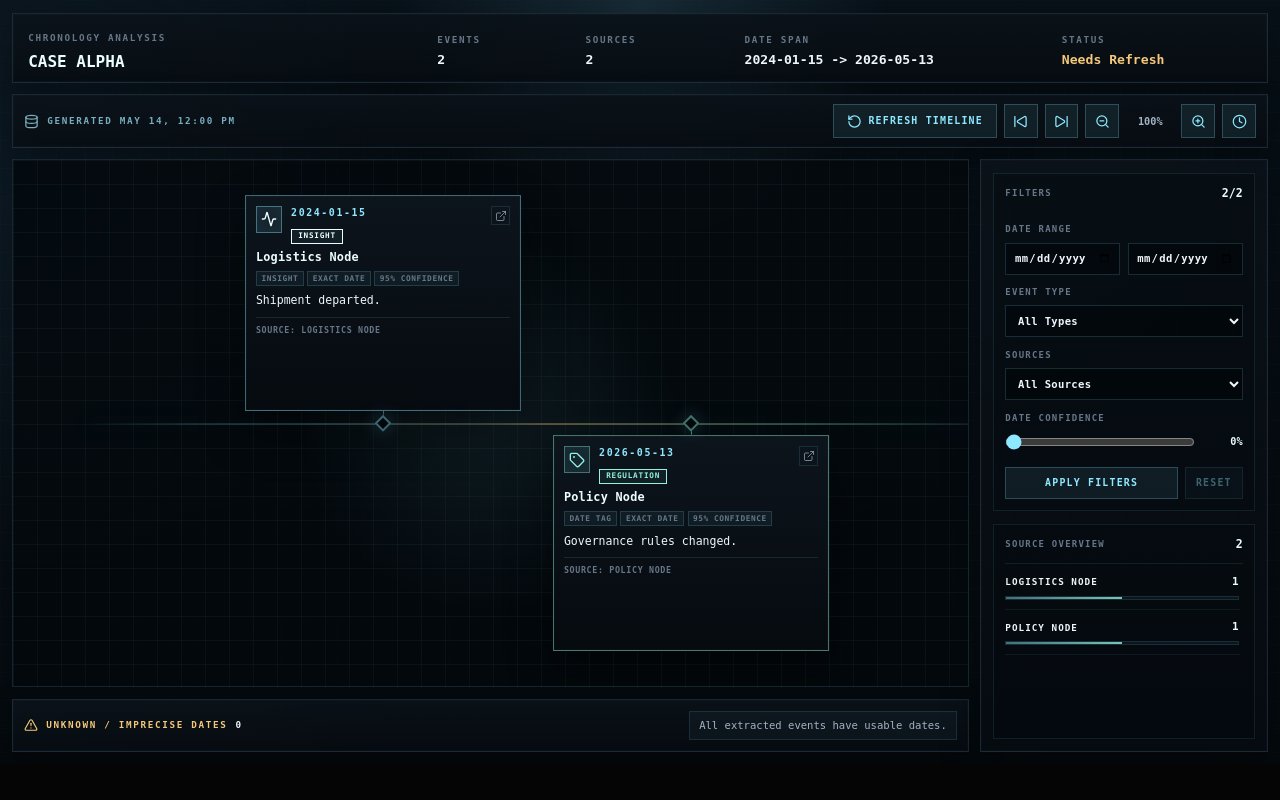
Scenario: TimelineView › applies the forensic filter panel to visible timeline events
The image size is (1280, 800).
Expected: the text "Shipment departed." is shown, [256, 294, 381, 308]
Expected: the text "Governance rules changed." is shown, [564, 534, 737, 548]
Select "Date Tags" in the dropdown named "timeline event type" at (1124, 321), box [1005, 305, 1243, 337]
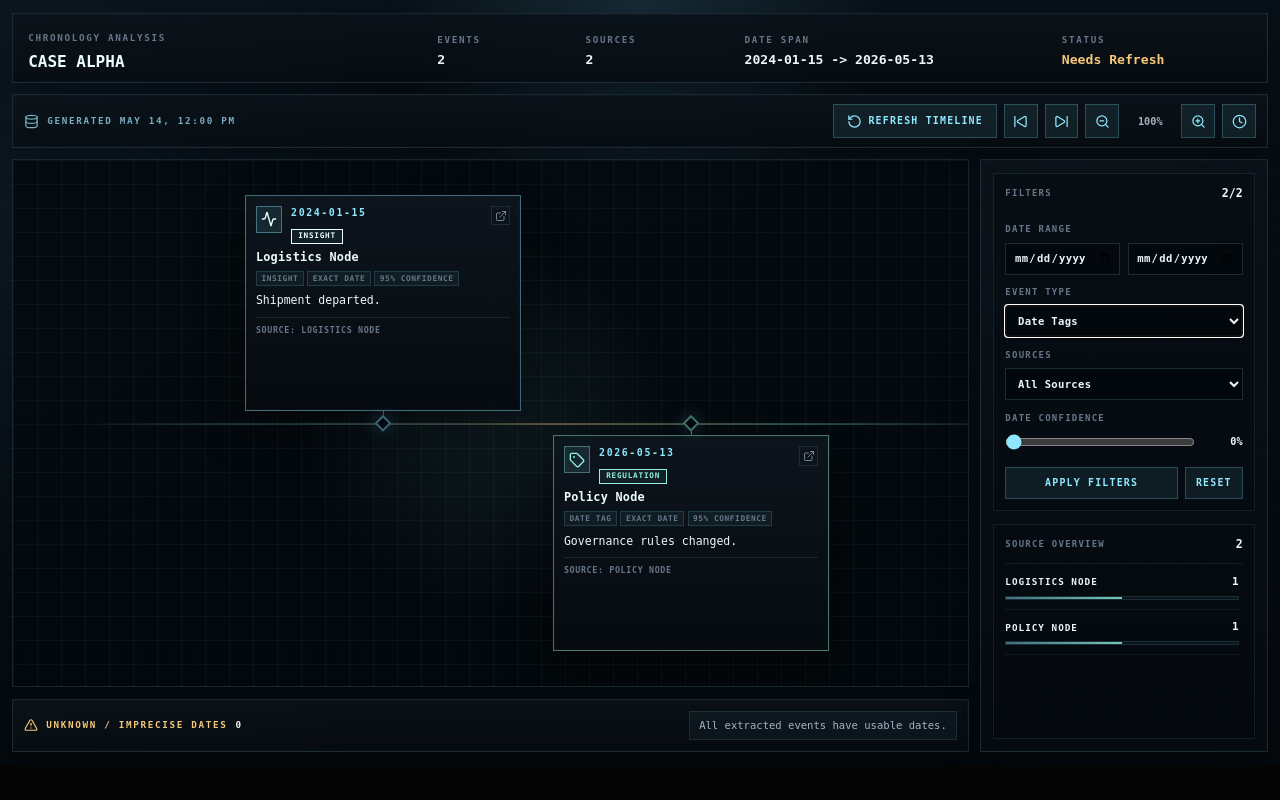
Click the button "Apply Filters".
click(1092, 484)  # box [1005, 468, 1178, 500]
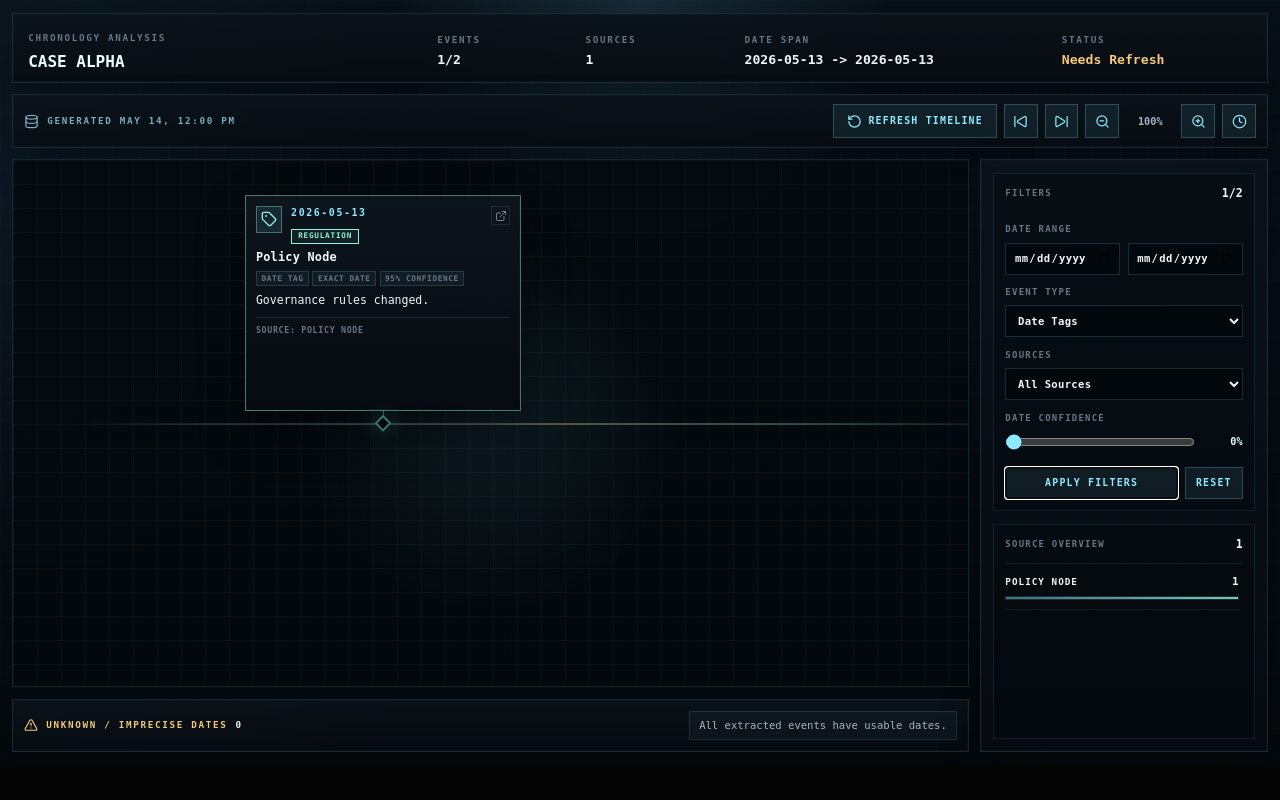
Expected: the text "Governance rules changed." is shown, [256, 294, 429, 308]
Expected: the text "Shipment departed." is gone
Select "Logistics Node" in the dropdown named "timeline source" at (1124, 384), box [1005, 368, 1243, 400]
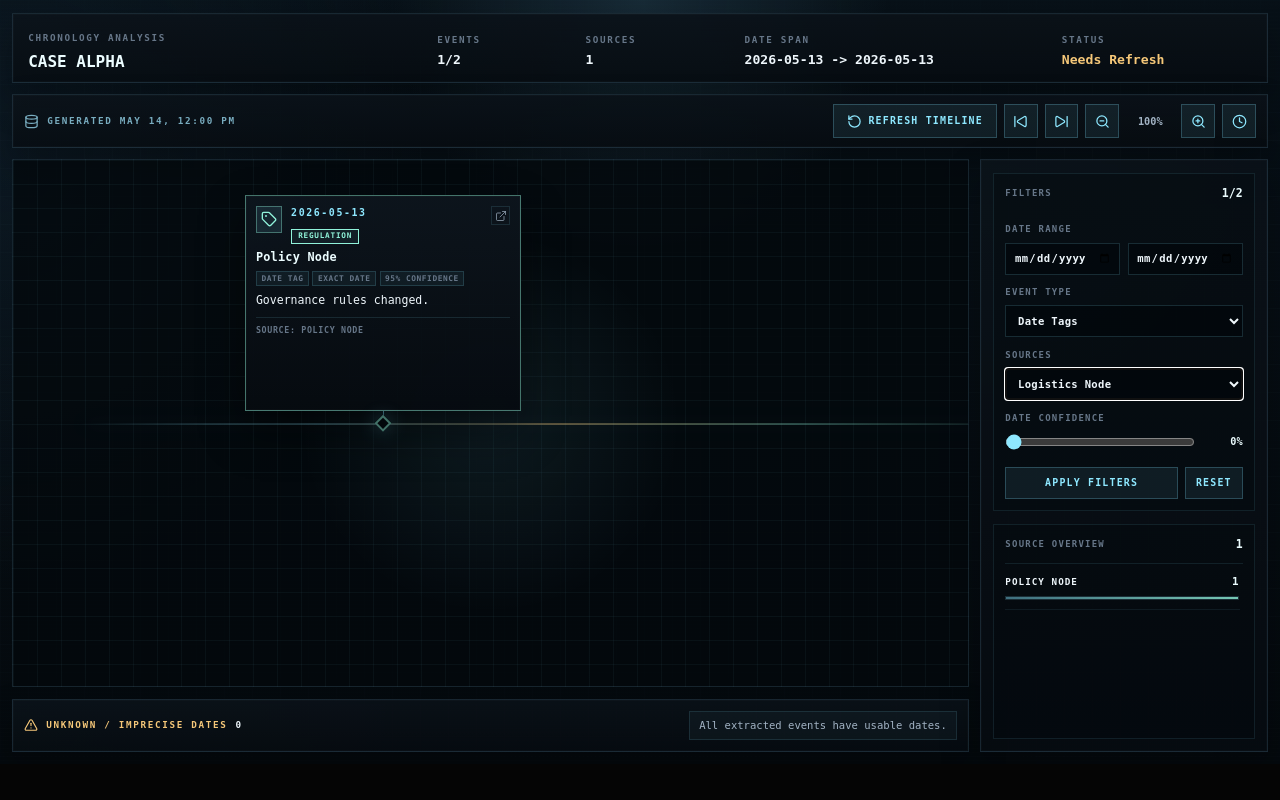
Click the button "Apply Filters".
click(1092, 484)  # box [1005, 468, 1178, 500]
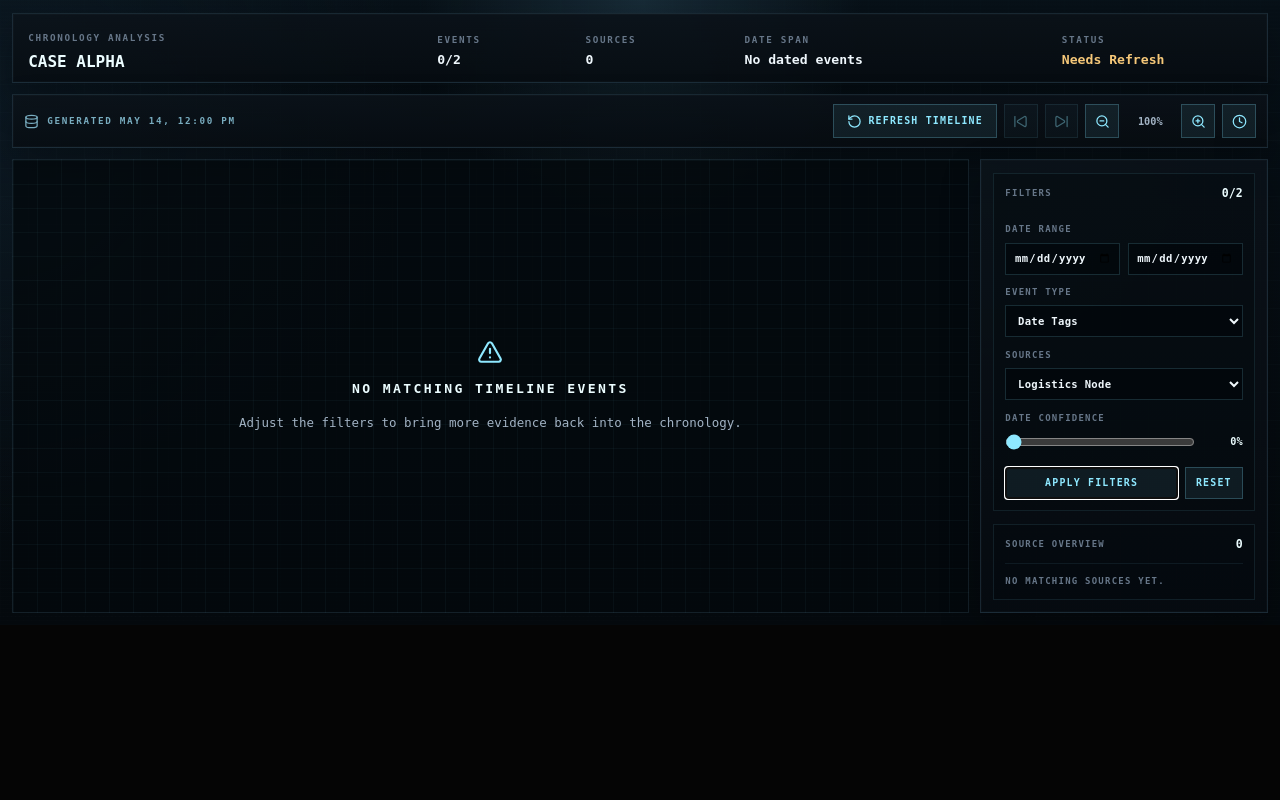
Expected: the text "No Matching Timeline Events" is shown, [352, 379, 629, 399]
